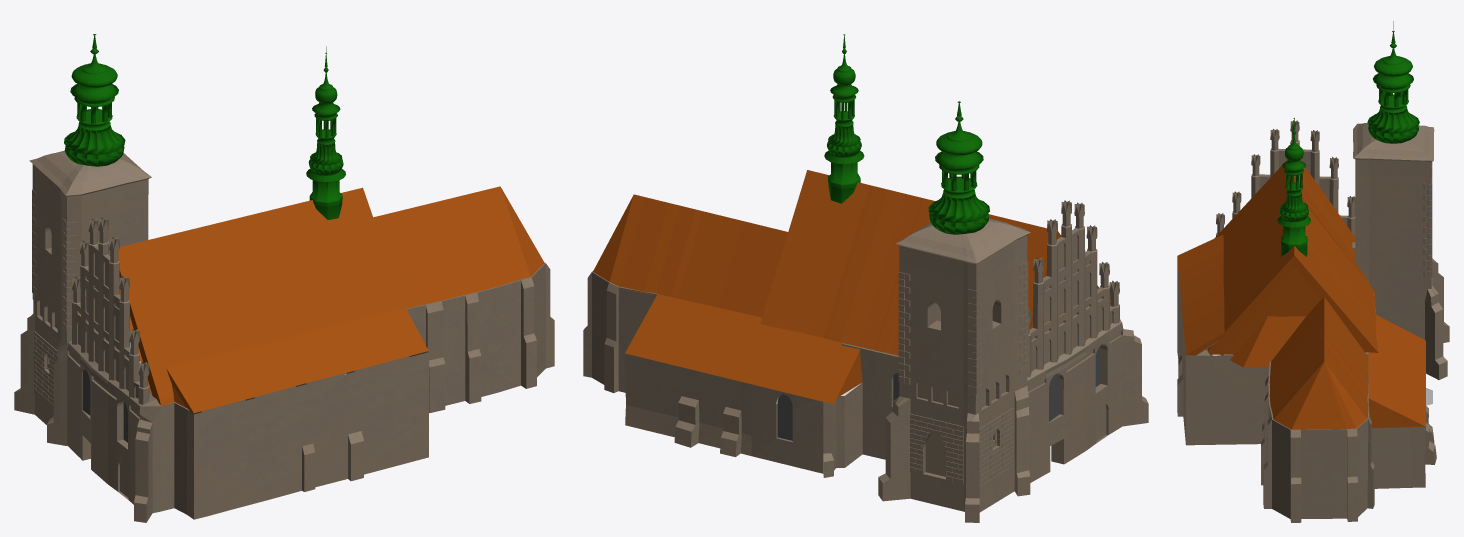
The model's file is church.glb.
3 views of the same model, side by side, from view 1: azimuth 30°, elevation 25°; view 2: azimuth 150°, elevation 25°; view 3: azimuth 270°, elevation 25° (orthographic). The views are drawn at different scales.
Visible parts, largest first — view 1: wieza.003, prawacka-nawa.001, oltarz.003, Sphere.003; view 2: wieza.003, oltarz.003, prawacka-nawa.001, Sphere.003, Cube.037; view 3: wieza.003, prawacka-nawa.001, oltarz.003, Sphere.003.
Part boxes in pixels (x1,y1,x2,y2): wieza.003: (14, 150, 554, 522); prawacka-nawa.001: (110, 187, 428, 413); oltarz.003: (119, 186, 544, 405); Sphere.003: (64, 34, 345, 219); wieza.003: (583, 200, 1148, 522); oltarz.003: (593, 194, 1046, 404); prawacka-nawa.001: (760, 170, 1110, 355); Sphere.003: (824, 34, 989, 234); Cube.037: (777, 346, 1100, 440); wieza.003: (1177, 120, 1449, 522); prawacka-nawa.001: (1177, 159, 1378, 354); oltarz.003: (1220, 297, 1425, 429); Sphere.003: (1277, 21, 1419, 256).
Size of the model in its own units: 7.92 by 6.48 by 4.65.
Materials: 12 (1 with a texture image).
